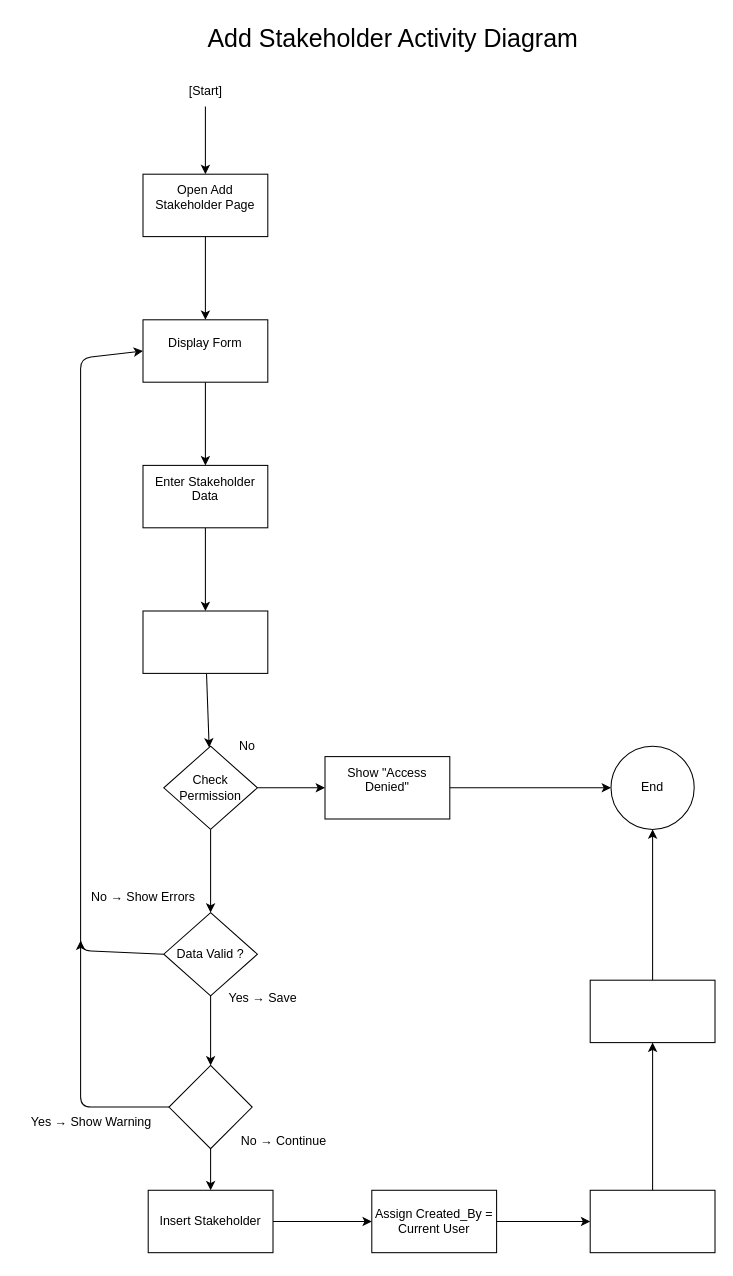
The diagram is 733 pixels wide and 1276 high, and some of its shapes have lost their labels. Each missing label, with the centre of its shape:
Check Duplicate?: point 210,1106
Click Save: point 205,641
Redirect to: | Stakeholder List | OR Stakeholder Details: point 652,1011
Show Success Message: point 652,1221
